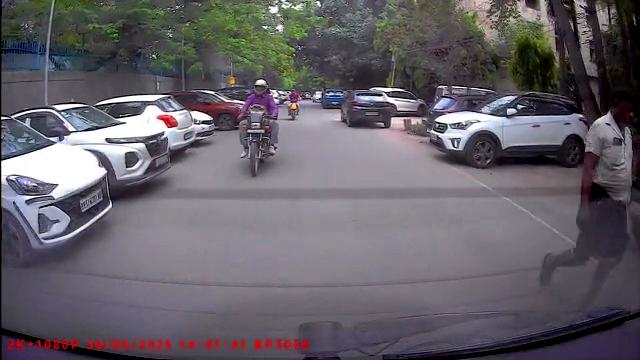motorcycle_with_helmet: (236, 75, 280, 178)
